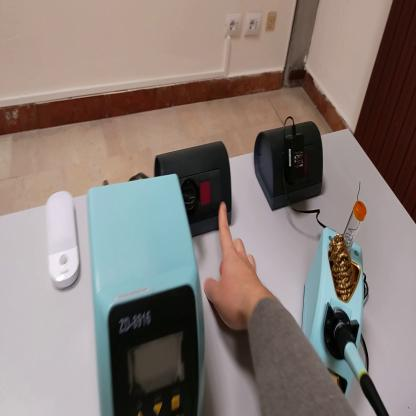hand: (204, 203, 262, 332)
socket: (151, 142, 234, 243), (253, 119, 326, 214)
welder base: (296, 200, 391, 416)
welder probe tip: (335, 314, 386, 415)
welder station: (84, 173, 208, 416)
